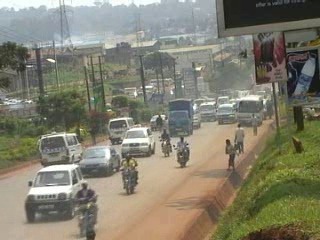Car: (21, 162, 85, 223), (79, 143, 120, 175), (119, 126, 157, 156)
Motorcycle: (75, 204, 95, 236), (173, 142, 189, 171), (121, 168, 136, 194), (159, 136, 170, 157), (156, 123, 162, 131)
